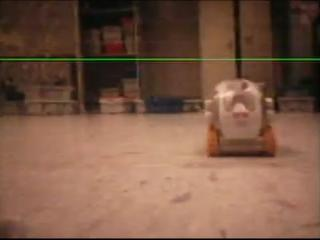cozmo: (204, 77, 276, 158)
